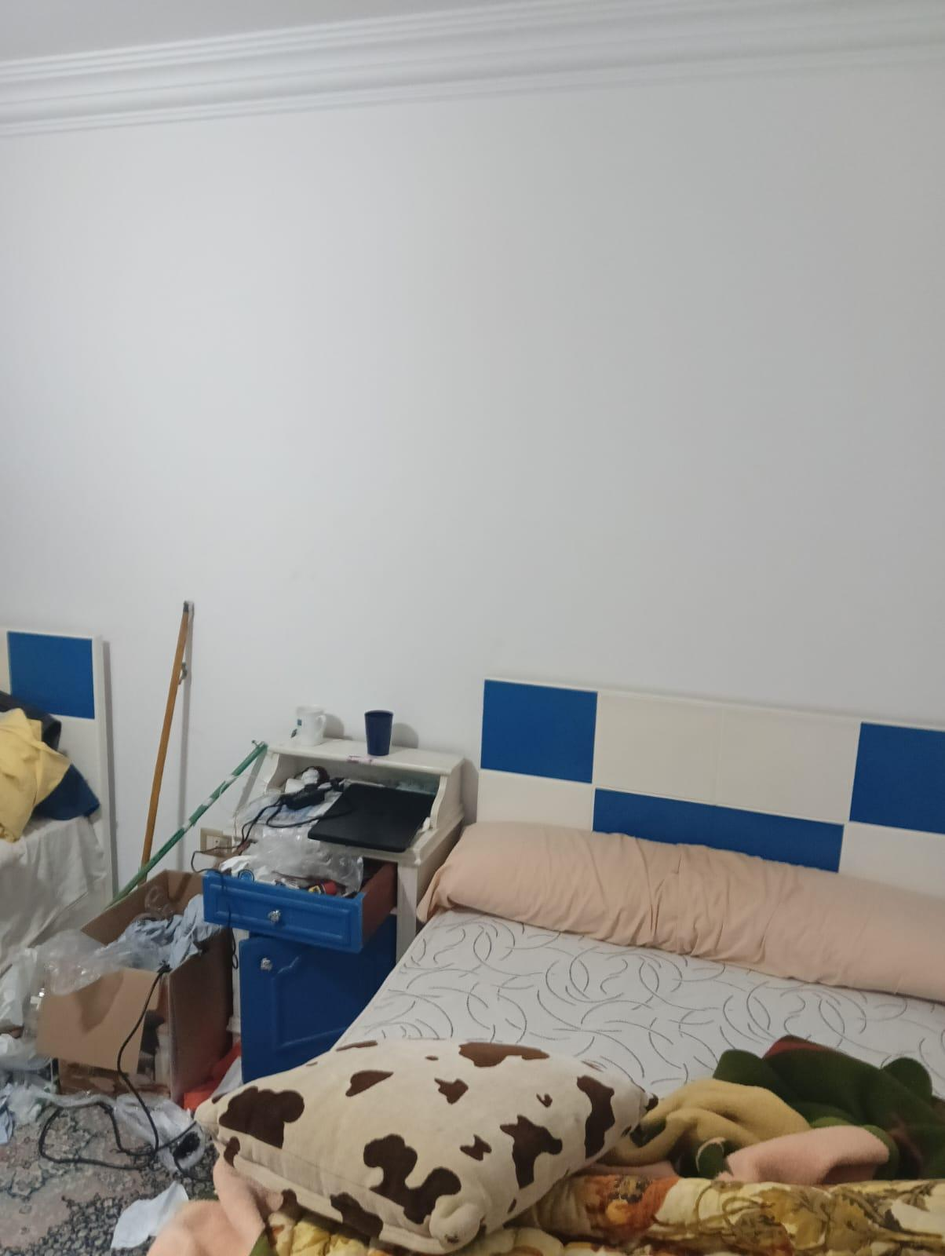cup: (294, 705, 326, 746), (365, 710, 392, 756)
